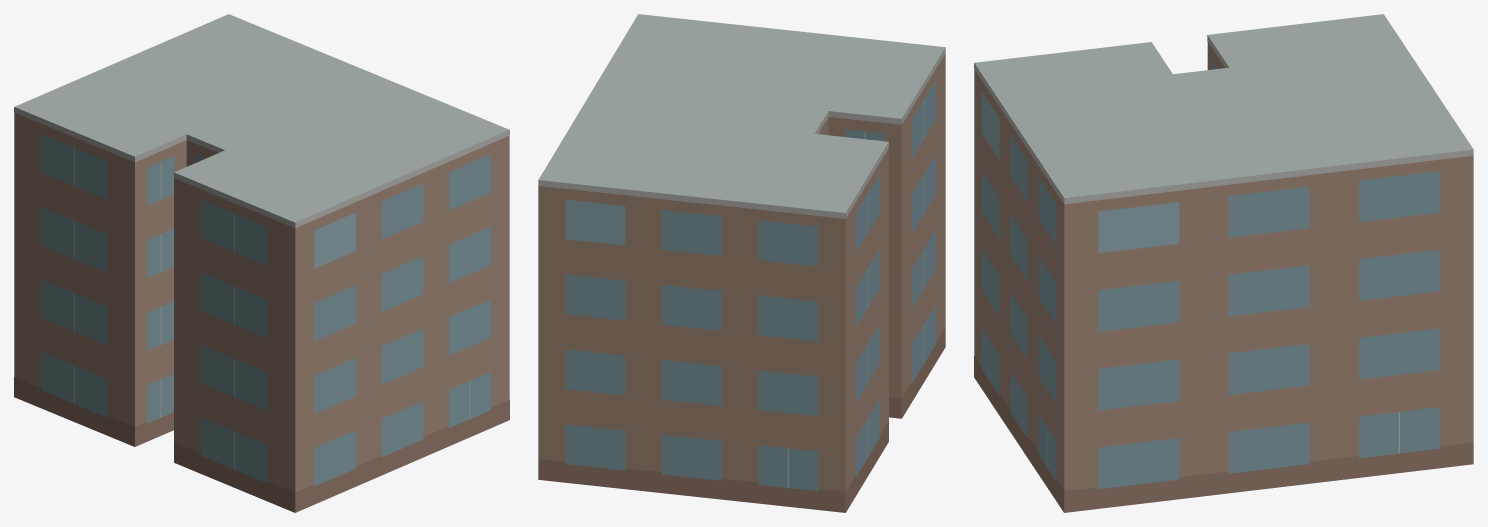
The model's file is survey-upis-32933335.glb.
The picture shows the model from 3 angles, left to right: view 1: azimuth 30°, elevation 25°; view 2: azimuth 150°, elevation 25°; view 3: azimuth 270°, elevation 25°; orthographic projection. The views are drawn at different scales.
Parts seen in each view (by area): view 1: survey-upis-32933335.tmp; view 2: survey-upis-32933335.tmp; view 3: survey-upis-32933335.tmp.
Boxes of the visible parts, x1,y1,x2,y2 form: survey-upis-32933335.tmp: [14, 14, 509, 512]; survey-upis-32933335.tmp: [538, 14, 945, 512]; survey-upis-32933335.tmp: [974, 14, 1473, 512].
Size of the model in its own units: 15.7 by 12.5 by 17.99.
